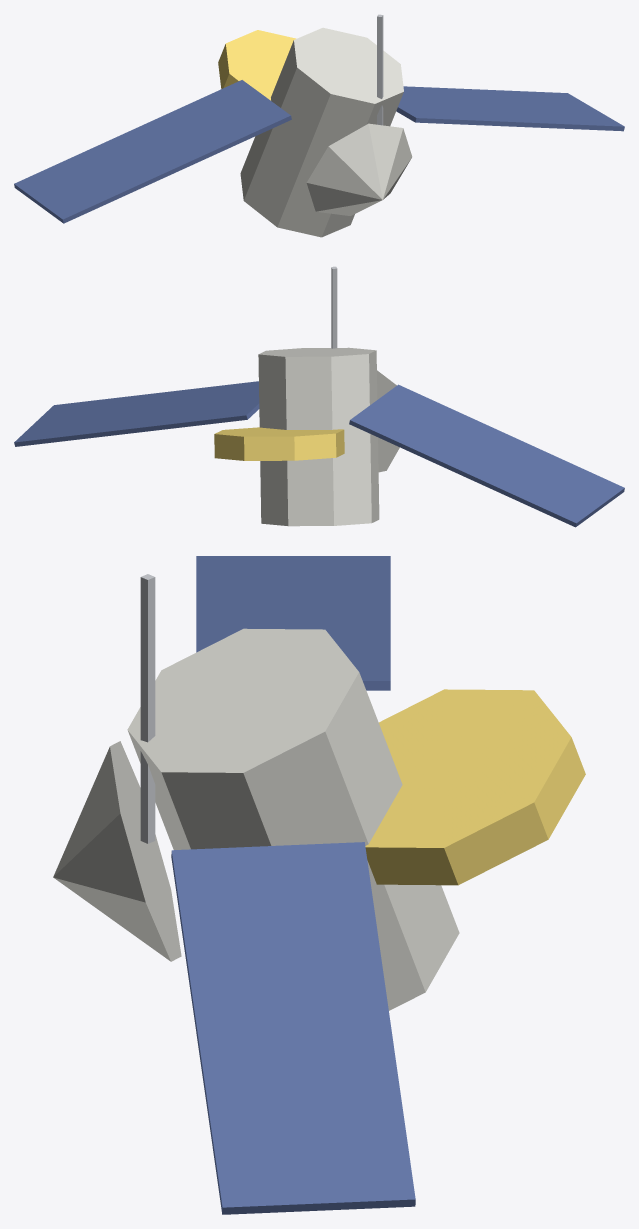
File: satellite.glb
The picture shows the model from 3 angles, top to bottom: view 1: azimuth 30°, elevation 25°; view 2: azimuth 150°, elevation 25°; view 3: azimuth 270°, elevation 25°; orthographic projection. The views are drawn at different scales.
Visible parts, largest first — view 1: satellite; view 2: satellite; view 3: satellite.
Boxes of the visible parts, bbox=[...] form: satellite: bbox=[14, 14, 624, 237]; satellite: bbox=[14, 266, 624, 527]; satellite: bbox=[53, 556, 585, 1214].
Size of the model in its own units: 5.37 by 2.08 by 2.2.
